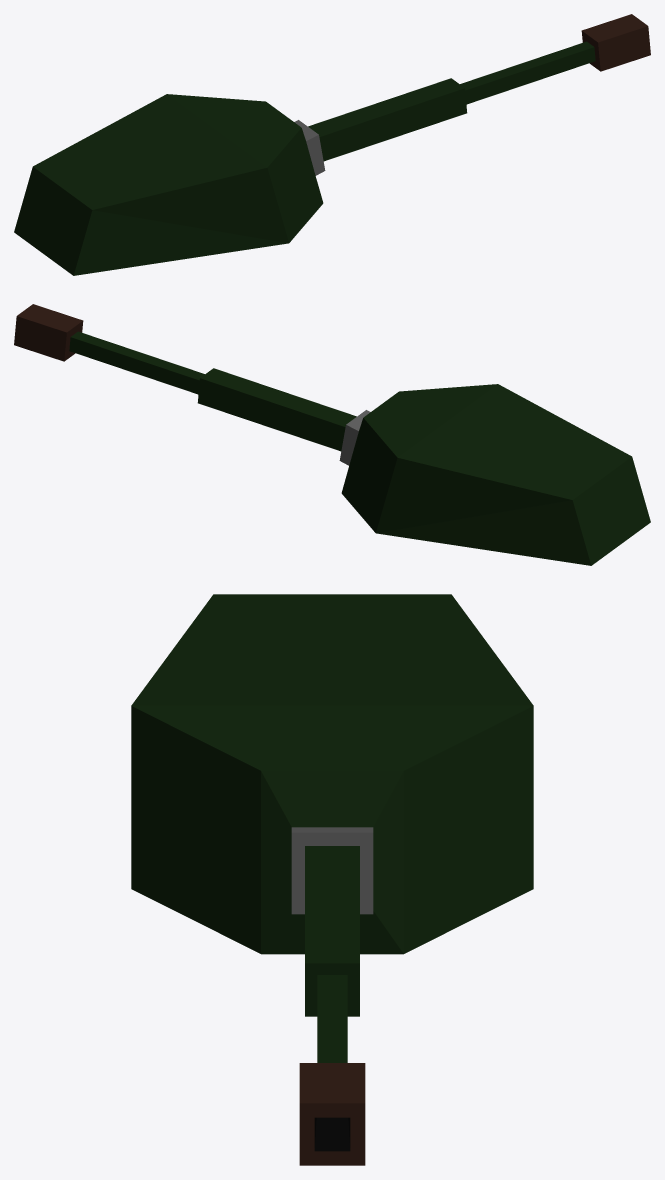
File: sniper.fbx
The picture shows the model from 3 angles, top to bottom: view 1: azimuth 30°, elevation 25°; view 2: azimuth 150°, elevation 25°; view 3: azimuth 270°, elevation 25°; orthographic projection. The views are drawn at different scales.
Parts seen in each view (by area): view 1: Cube.001; view 2: Cube.001; view 3: Cube.001.
Part boxes in pixels (<box>): Cube.001: <box>14,14,650,275</box>; Cube.001: <box>14,304,650,565</box>; Cube.001: <box>131,594,533,1165</box>.
Size of the model in its own units: 116 by 400 by 56.57.
